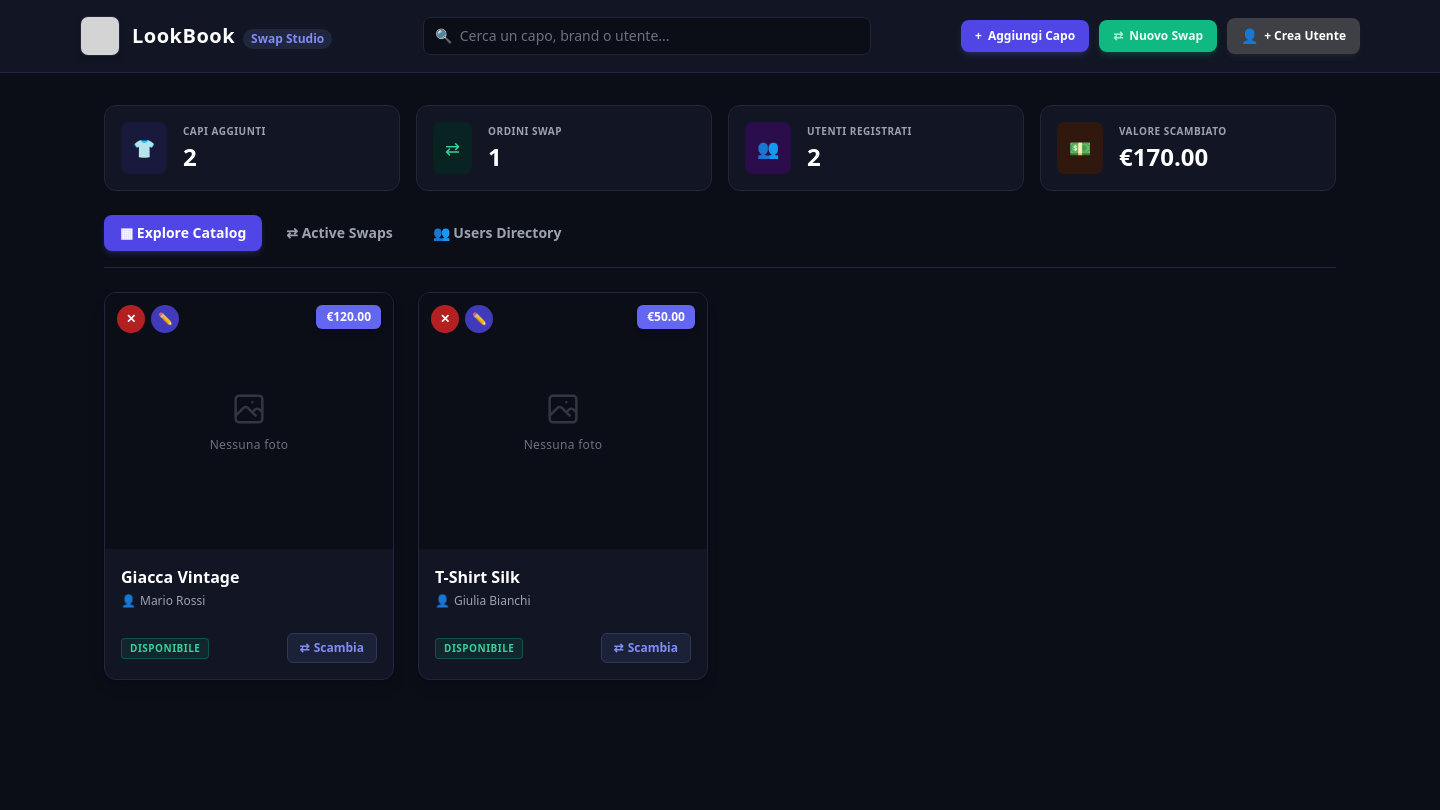
Swap Studio - Frontend Integration Tests › Mostra un messaggio di errore se createSwap viene rifiutato per concorrenza dal backend
Step 1. Click the button "⇄ Nuovo Swap" → (1158, 36), box [1099,20,1217,52]
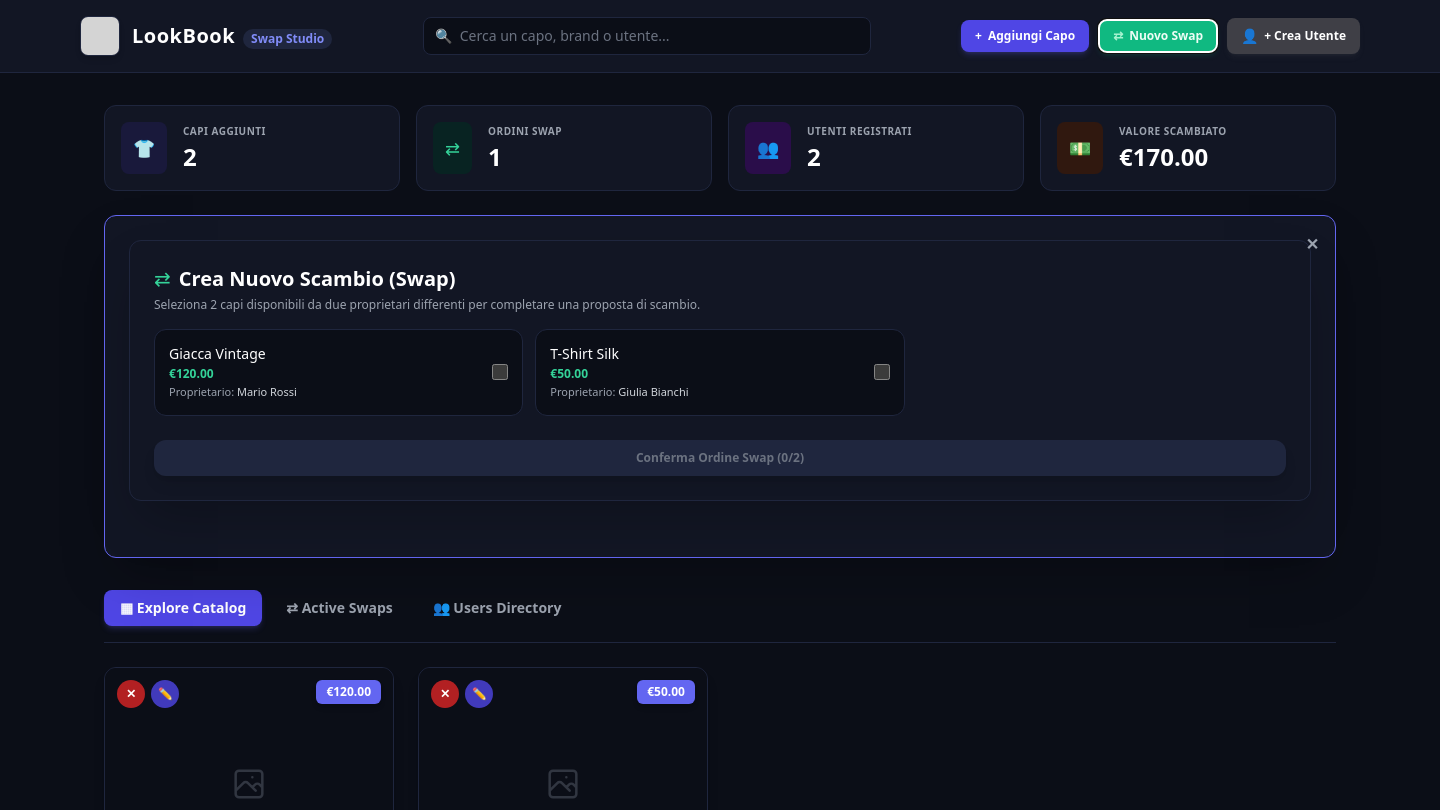
Step 2. Click the text "Giacca Vintage" → (217, 354), box [169,344,266,363]
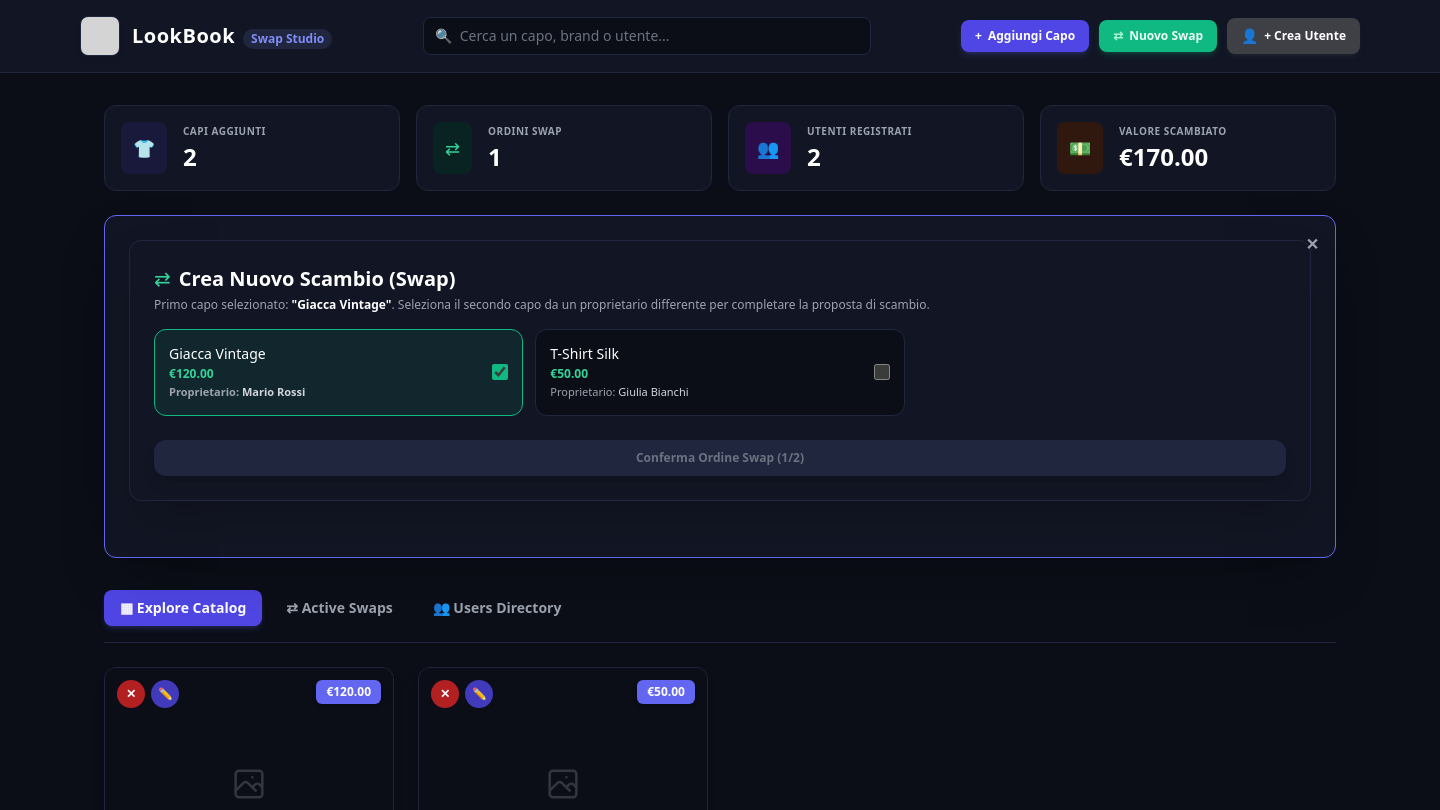
Step 3. Click the text "T-Shirt Silk" → (585, 354), box [550,344,619,363]
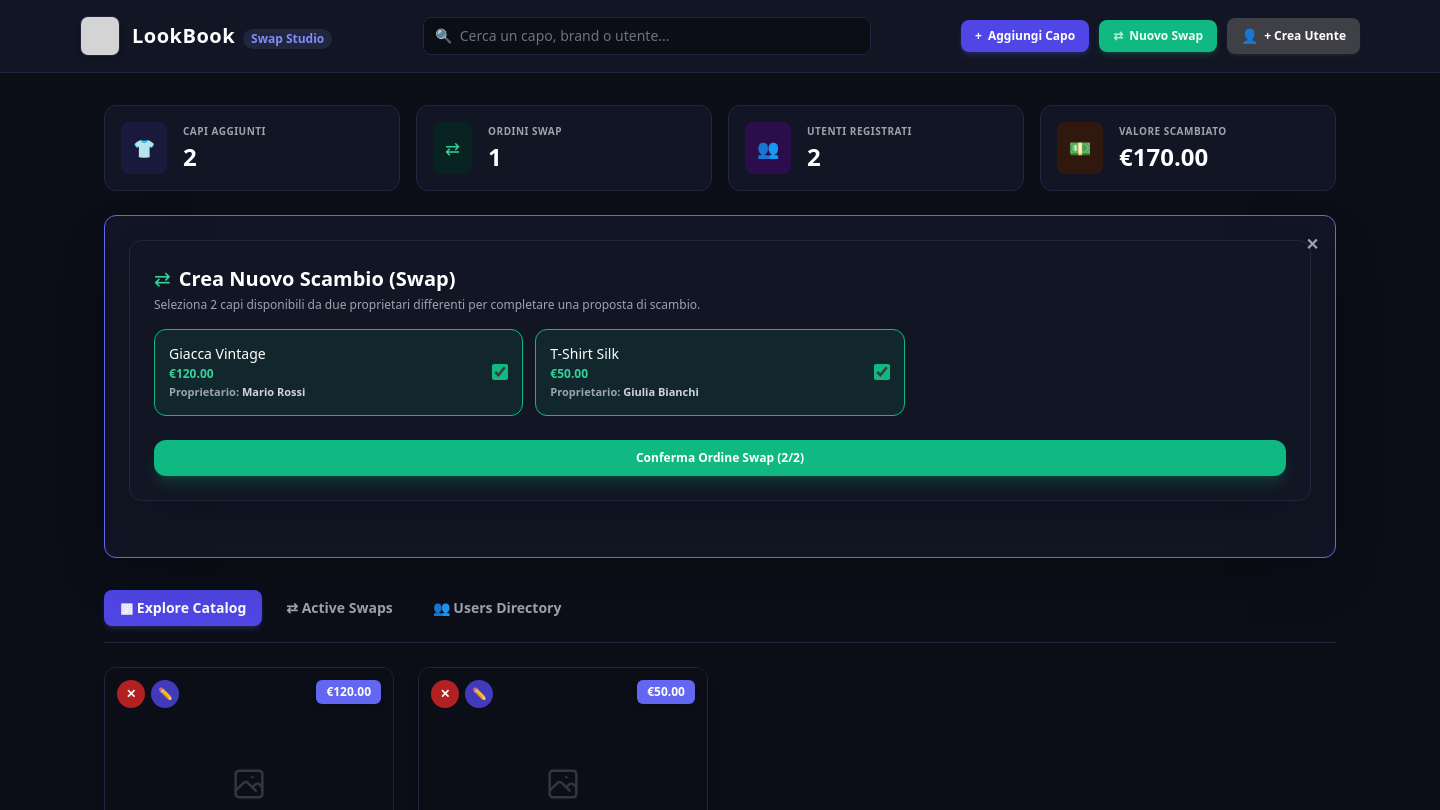
Step 4. Click the button "Conferma Ordine Swap (2/2)" → (720, 458), box [154,440,1286,476]
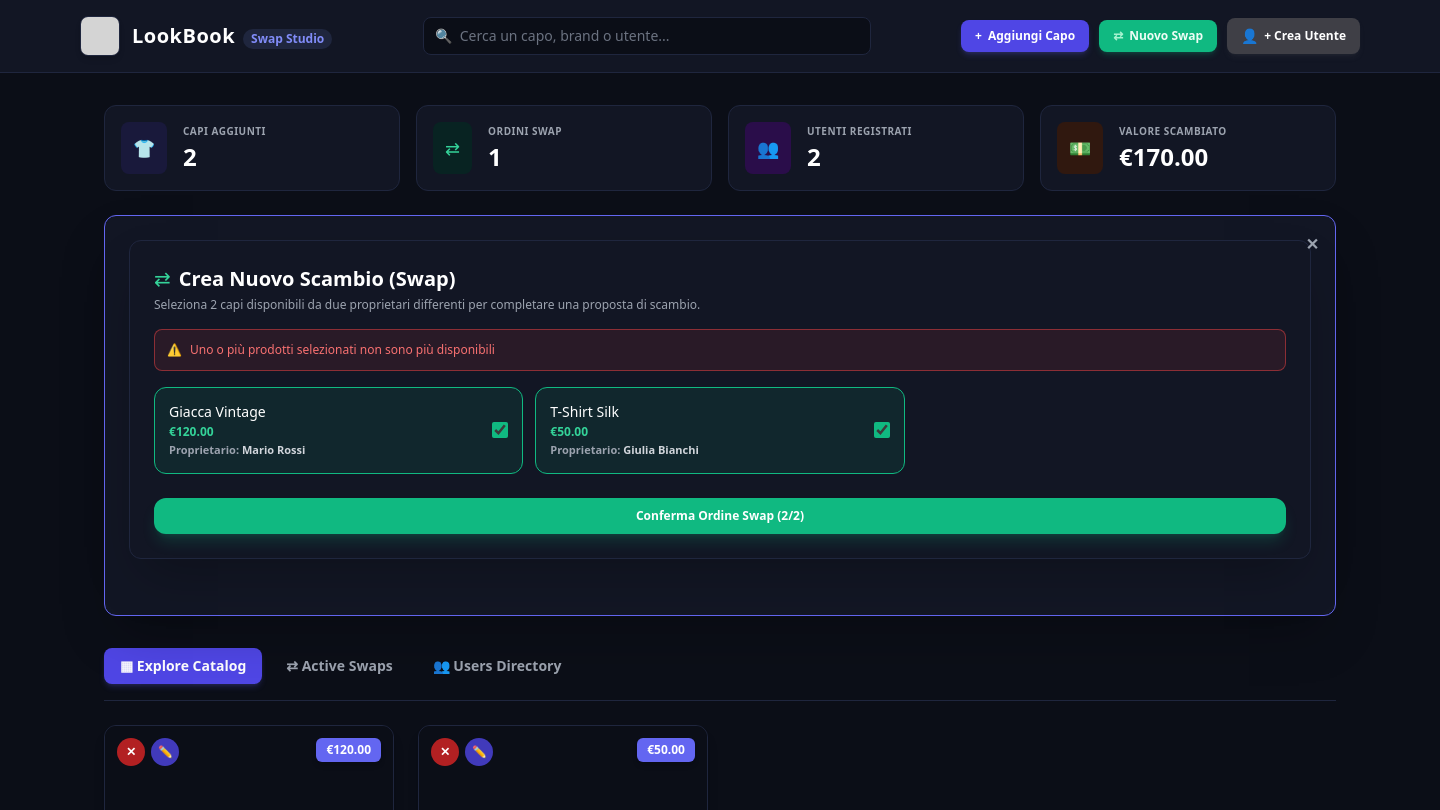
Now the text "Uno o più prodotti selezionati non sono più disponibili" is shown, box [190,342,495,358]
